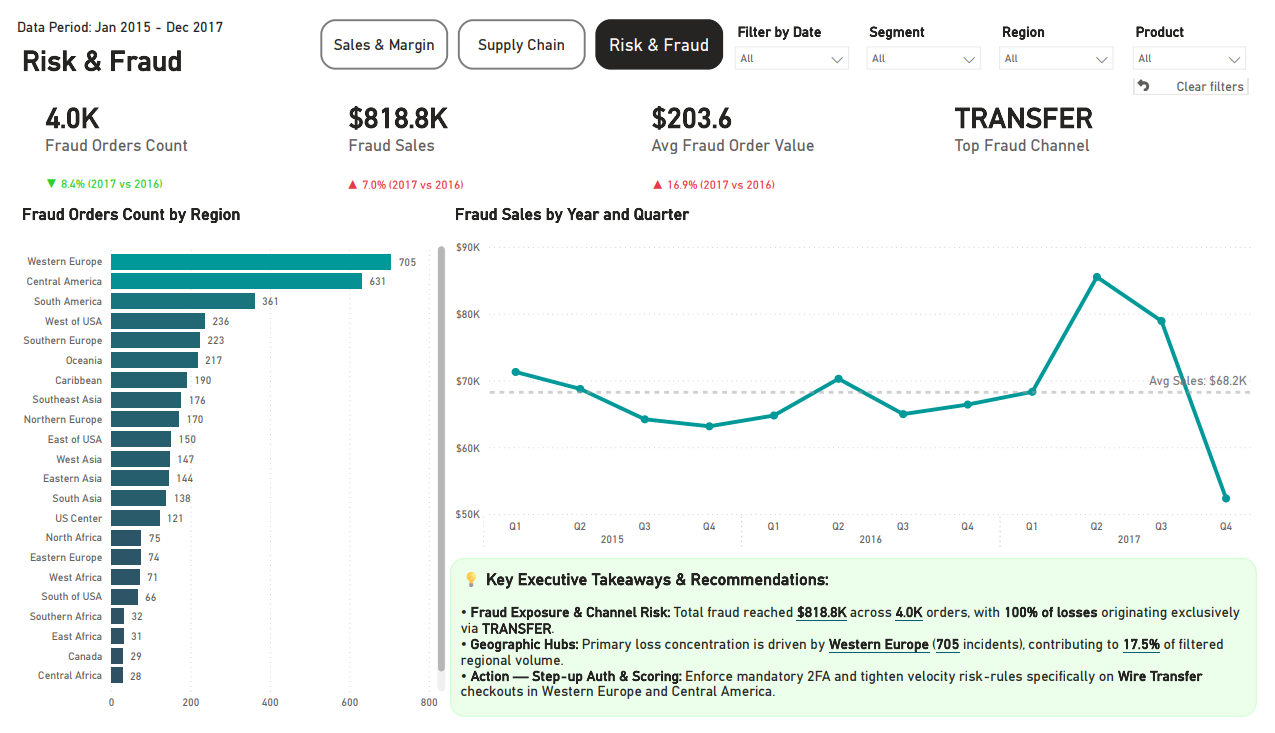

This screenshot's page, from the dashboard's own definition file:
{"tool":"powerbi","page":{"name":"Risk & Fraud","canvas":[1280,720],"ordinal":2},"visuals":[{"type":"cardVisual","fields":{"Data":["_Measures.Fraud Orders Count","_Measures.Fraud Sales","_Measures.Avg Fraud Order Value","_Measures.Top Fraud Channel"]},"box":[0,60,1280,105.2],"z":0},{"type":"lineChart","fields":{"Y":["_Measures.Fraud Sales"],"Category":["Dim_Calendar.Year","Dim_Calendar.Quarter","Dim_Calendar.Month Name"]},"box":[447.1,191.4,832.9,364.3],"z":1000},{"type":"barChart","title":"Fraud Orders Count by Region","fields":{"Y":["_Measures.Fraud Orders Count"],"Category":["core dim_geography.order_region"]},"box":[0,191.4,447.1,528.6],"z":2000},{"type":"textbox","box":[447.1,555.7,832.9,164.3],"z":3000},{"type":"textbox","box":[0,21,251,46],"z":4000},{"type":"shape","box":[0,0,223.6,22.7],"z":5000},{"type":"actionButton","box":[1152.9,57.6,117.6,20.6],"z":6000},{"type":"slicer","fields":{"Values":["Dim_Calendar.Year","Dim_Calendar.Month Name"]},"box":[731.4,0,137.7,60],"z":7000},{"type":"cardVisual","fields":{"Data":["_Measures.Fraud Orders Count YoY Formatted"]},"box":[0,145,200,46],"z":8000},{"type":"cardVisual","fields":{"Data":["_Measures.Fraud Sales YoY Formatted"]},"box":[311.4,145.7,200,46],"z":9000},{"type":"cardVisual","fields":{"Data":["_Measures.Avg Fraud Order Value YoY Formatted"]},"box":[625.7,145.7,200,46],"z":10000},{"type":"slicer","fields":{"Values":["Dim_Geography.order_region"]},"box":[1004.5,0,137.7,60],"z":11000},{"type":"pageNavigator","box":[312.9,0,418.3,51.7],"z":12000},{"type":"slicer","fields":{"Values":["Dim_Customers.segment"]},"box":[867.2,0,137.7,60],"z":13000},{"type":"slicer","fields":{"Values":["Dim_Products.category_name"]},"box":[1141.7,0,137.7,60],"z":14000}]}

Visuals, with their boxes in screenshot pixels (x1, y1, x2, y2), scaled from the page's 1280x720 canvas onto the 1275x733 screenshot:
cardVisual - _Measures.Fraud Orders Count x _Measures.Fraud Sales: <box>0,61,1274,168</box>
lineChart - _Measures.Fraud Sales x Dim_Calendar.Year: <box>445,195,1274,566</box>
"Fraud Orders Count by Region" barChart: <box>0,195,445,732</box>
textbox: <box>445,566,1274,732</box>
textbox: <box>0,21,250,68</box>
shape: <box>0,0,223,23</box>
actionButton: <box>1148,59,1266,80</box>
slicer - Dim_Calendar.Year x Dim_Calendar.Month Name: <box>729,0,866,61</box>
cardVisual - _Measures.Fraud Orders Count YoY Formatted: <box>0,148,199,194</box>
cardVisual - _Measures.Fraud Sales YoY Formatted: <box>310,148,509,195</box>
cardVisual - _Measures.Avg Fraud Order Value YoY Formatted: <box>623,148,822,195</box>
slicer - Dim_Geography.order_region: <box>1001,0,1138,61</box>
pageNavigator: <box>312,0,728,53</box>
slicer - Dim_Customers.segment: <box>864,0,1001,61</box>
slicer - Dim_Products.category_name: <box>1137,0,1274,61</box>
